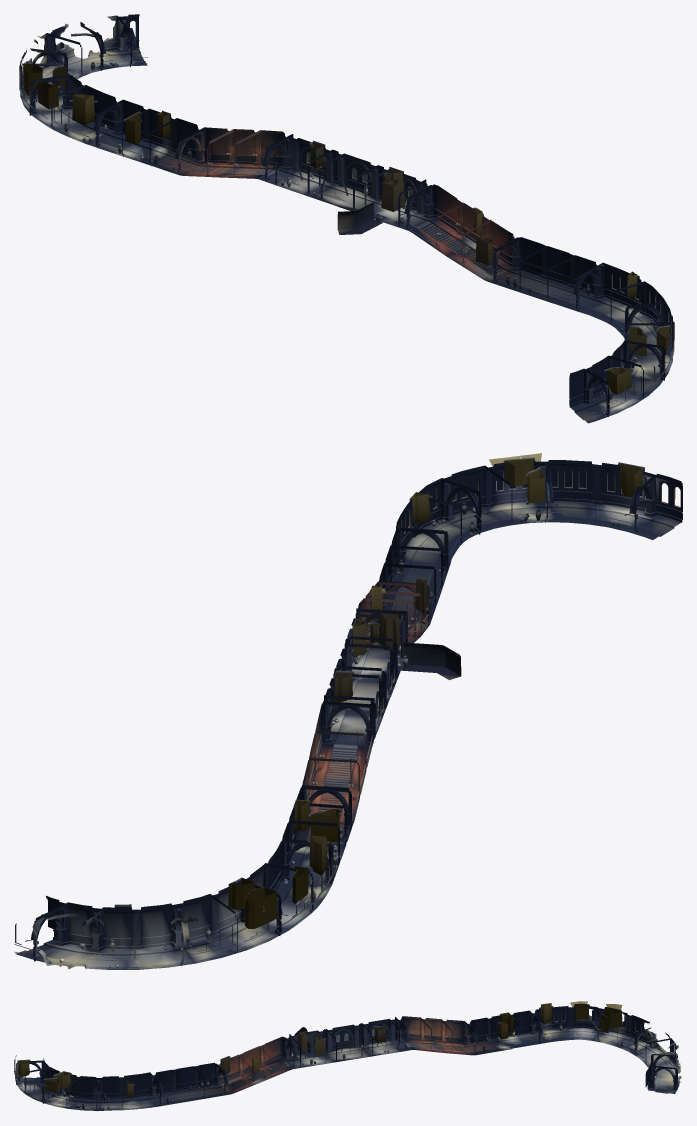
File: 01MainHall.gltf
3 views of the same model, one above another, from view 1: azimuth 30°, elevation 25°; view 2: azimuth 150°, elevation 25°; view 3: azimuth 270°, elevation 25° (orthographic). The views are drawn at different scales.
Parts seen in each view (by area): view 1: stg011_o01_Mesh_0004, stg011_o01_Mesh_0014, stg011_o01_Mesh_0016, stg011_o01_Mesh_0047, stg011_k_Mesh_0000, stg011_o01_Mesh_0005, stg011_o01_Mesh_0015, stg011_o01_Mesh_0009, stg011_o01_Mesh_0048, stg011_o01_Mesh_0030, stg011_o08_Mesh_0010; view 2: stg011_o01_Mesh_0004, stg011_o01_Mesh_0047, stg011_k_Mesh_0000, stg011_o01_Mesh_0016, stg011_o01_Mesh_0014, stg011_o01_Mesh_0005, stg011_o01_Mesh_0015, stg011_o01_Mesh_0009, stg011_o08_Mesh_0010, stg011_o01_Mesh_0048, stg011_o01_Mesh_0030, stg011_p01_Mesh_0000 (+1 smaller); view 3: stg011_o01_Mesh_0004, stg011_o01_Mesh_0014, stg011_o01_Mesh_0016, stg011_o01_Mesh_0047, stg011_o01_Mesh_0005, stg011_k_Mesh_0000, stg011_o01_Mesh_0015, stg011_o01_Mesh_0009, stg011_o01_Mesh_0048, stg011_o01_Mesh_0030, stg011_o08_Mesh_0010, stg011_p01_Mesh_0000 (+1 smaller).
Boxes of the visible parts, x1=… form: stg011_o01_Mesh_0004: x1=19, y1=14, x2=674, y2=421; stg011_o01_Mesh_0014: x1=20, y1=18, x2=673, y2=398; stg011_o01_Mesh_0016: x1=22, y1=48, x2=671, y2=423; stg011_o01_Mesh_0047: x1=35, y1=53, x2=661, y2=420; stg011_k_Mesh_0000: x1=23, y1=64, x2=670, y2=394; stg011_o01_Mesh_0005: x1=32, y1=26, x2=661, y2=420; stg011_o01_Mesh_0015: x1=20, y1=41, x2=671, y2=404; stg011_o01_Mesh_0009: x1=21, y1=21, x2=662, y2=387; stg011_o01_Mesh_0048: x1=193, y1=166, x2=502, y2=274; stg011_o01_Mesh_0030: x1=58, y1=51, x2=657, y2=397; stg011_o08_Mesh_0010: x1=19, y1=19, x2=670, y2=371; stg011_o01_Mesh_0004: x1=14, y1=460, x2=682, y2=968; stg011_o01_Mesh_0047: x1=28, y1=508, x2=673, y2=964; stg011_k_Mesh_0000: x1=228, y1=458, x2=643, y2=928; stg011_o01_Mesh_0016: x1=15, y1=501, x2=681, y2=969; stg011_o01_Mesh_0014: x1=48, y1=464, x2=682, y2=938; stg011_o01_Mesh_0005: x1=23, y1=476, x2=675, y2=965; stg011_o01_Mesh_0015: x1=54, y1=492, x2=682, y2=945; stg011_o01_Mesh_0009: x1=59, y1=467, x2=652, y2=946; stg011_o08_Mesh_0010: x1=32, y1=457, x2=644, y2=968; stg011_o01_Mesh_0048: x1=318, y1=626, x2=411, y2=821; stg011_o01_Mesh_0030: x1=59, y1=498, x2=619, y2=967; stg011_p01_Mesh_0000: x1=396, y1=467, x2=642, y2=531; stg011_o01_Mesh_0004: x1=14, y1=1005, x2=680, y2=1111; stg011_o01_Mesh_0014: x1=15, y1=1008, x2=678, y2=1093; stg011_o01_Mesh_0016: x1=17, y1=1027, x2=679, y2=1110; stg011_o01_Mesh_0047: x1=23, y1=1031, x2=672, y2=1107; stg011_o01_Mesh_0005: x1=19, y1=1016, x2=674, y2=1108; stg011_k_Mesh_0000: x1=18, y1=1003, x2=622, y2=1098; stg011_o01_Mesh_0015: x1=15, y1=1023, x2=678, y2=1097; stg011_o01_Mesh_0009: x1=41, y1=1008, x2=671, y2=1097; stg011_o01_Mesh_0048: x1=227, y1=1042, x2=467, y2=1090; stg011_o01_Mesh_0030: x1=41, y1=1024, x2=673, y2=1109; stg011_o08_Mesh_0010: x1=17, y1=1004, x2=681, y2=1086; stg011_p01_Mesh_0000: x1=336, y1=1010, x2=677, y2=1057.
Bounding box in the file's own units: 120 × 34.54 × 399.
